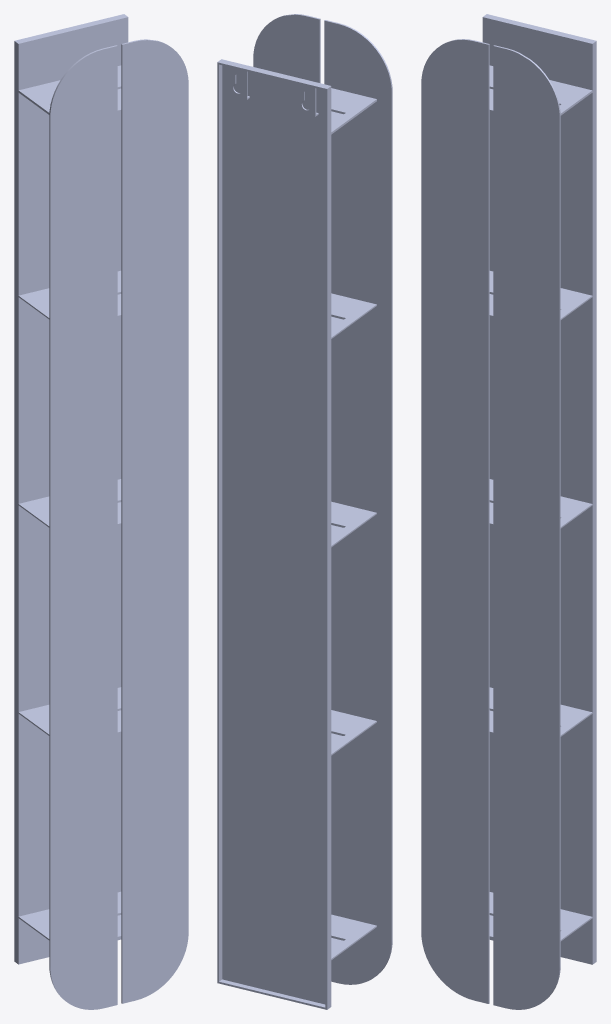
The model's file is round-prima.c403ff9ddc.glb.
The picture shows the model from 3 angles, left to right: view 1: azimuth 30°, elevation 25°; view 2: azimuth 150°, elevation 25°; view 3: azimuth 330°, elevation 25°; orthographic projection.
Visible parts, largest first — view 1: NAUO1; view 2: NAUO1; view 3: NAUO1.
Part boxes in pixels (x1=…): NAUO1: x1=14, y1=14, x2=188, y2=1009; NAUO1: x1=217, y1=14, x2=392, y2=1009; NAUO1: x1=421, y1=14, x2=596, y2=1009.
Bounding box in the file's own units: 0.1511 × 1 × 0.096.
